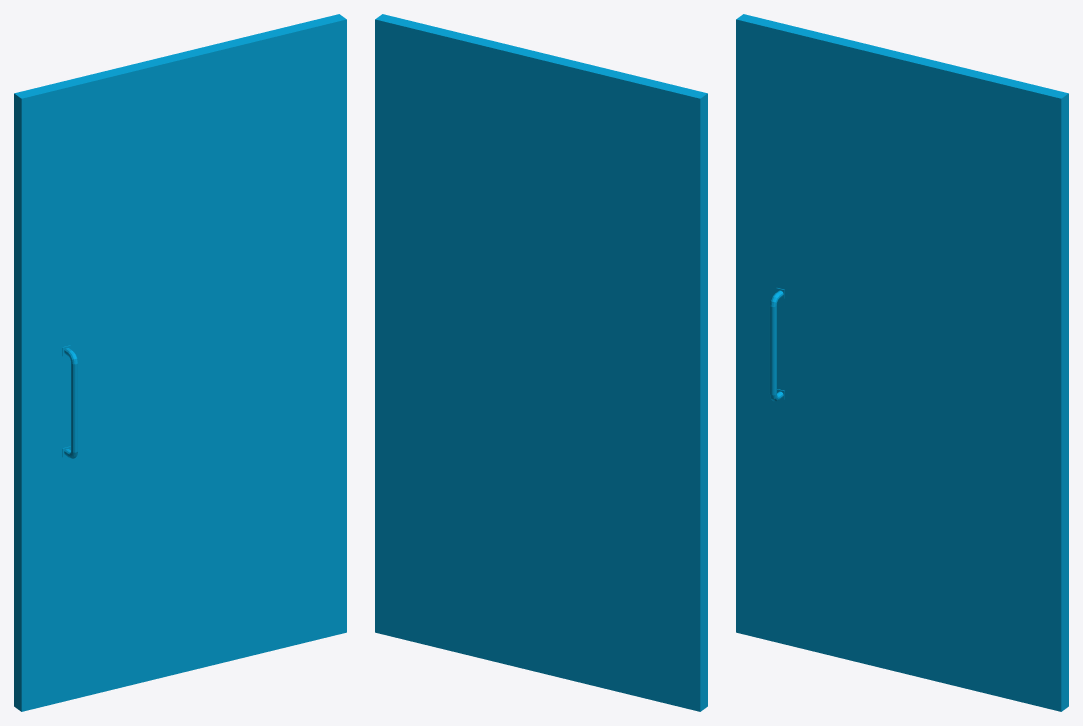
Rendered from Workbench_03_Door_01.fbx.
The picture shows the model from 3 angles, left to right: view 1: azimuth 30°, elevation 25°; view 2: azimuth 150°, elevation 25°; view 3: azimuth 330°, elevation 25°; orthographic projection.
Visible parts, largest first — view 1: Workbench_03_Door_01; view 2: Workbench_03_Door_01; view 3: Workbench_03_Door_01.
Part boxes in pixels (bbox=[...]): Workbench_03_Door_01: bbox=[14, 14, 346, 711]; Workbench_03_Door_01: bbox=[375, 14, 707, 711]; Workbench_03_Door_01: bbox=[736, 14, 1068, 711].
Size of the model in its own units: 53.35 by 96.1 by 4.86.
